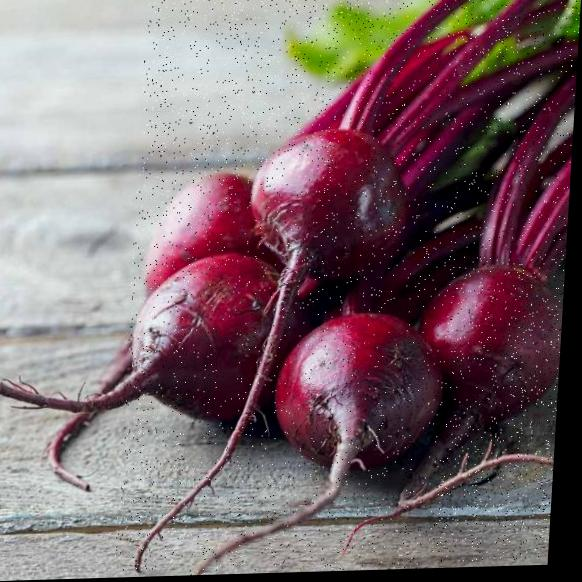Beetroot: (114, 0, 582, 571), (174, 299, 442, 576), (412, 258, 566, 525), (227, 114, 421, 290), (125, 257, 299, 438)
